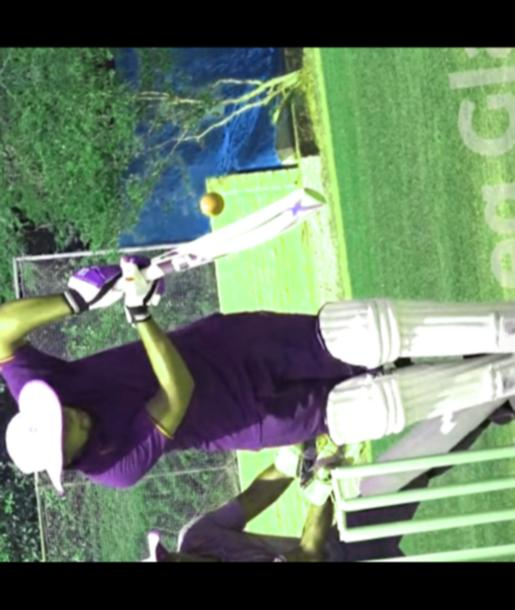batsman: (0, 153, 515, 516)
